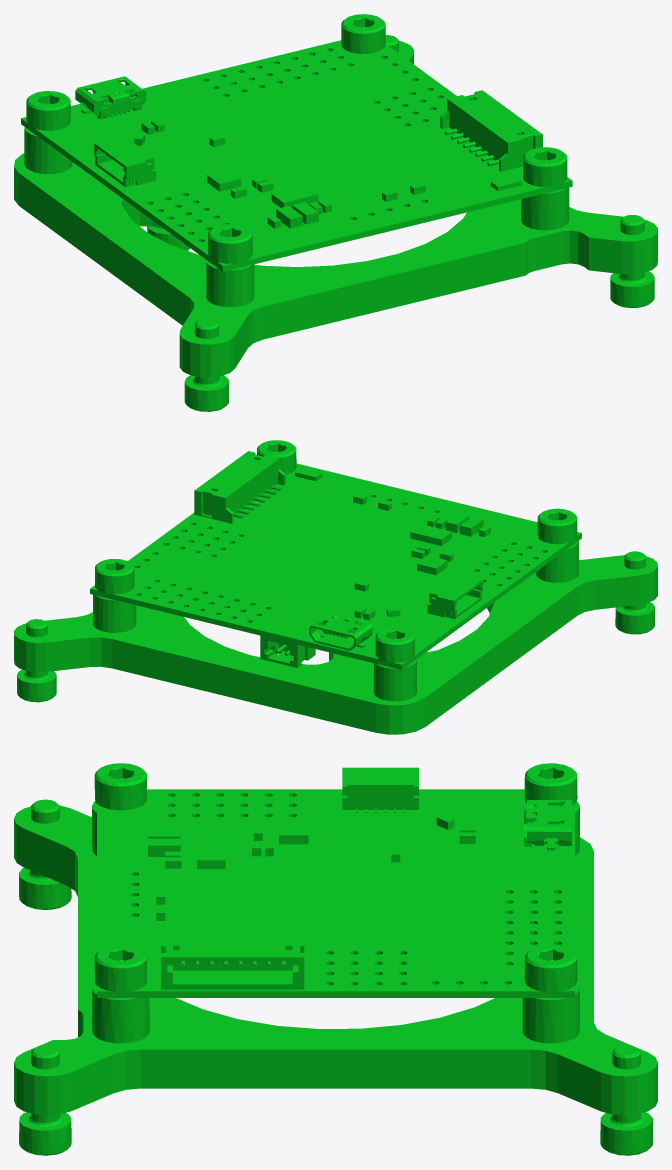
The model's file is spinal_fixed_joint.dae.
The picture shows the model from 3 angles, top to bottom: view 1: azimuth 30°, elevation 25°; view 2: azimuth 150°, elevation 25°; view 3: azimuth 270°, elevation 25°; orthographic projection. The views are drawn at different scales.
Parts seen in each view (by area): view 1: spinal_fixed_joint_unit; view 2: spinal_fixed_joint_unit; view 3: spinal_fixed_joint_unit.
Part boxes in pixels (x1=…): spinal_fixed_joint_unit: x1=14, y1=14, x2=657, y2=411; spinal_fixed_joint_unit: x1=14, y1=440, x2=657, y2=734; spinal_fixed_joint_unit: x1=14, y1=763, x2=657, y2=1155.
Bounding box in the file's own units: 0.0674 × 0.0674 × 0.019.
